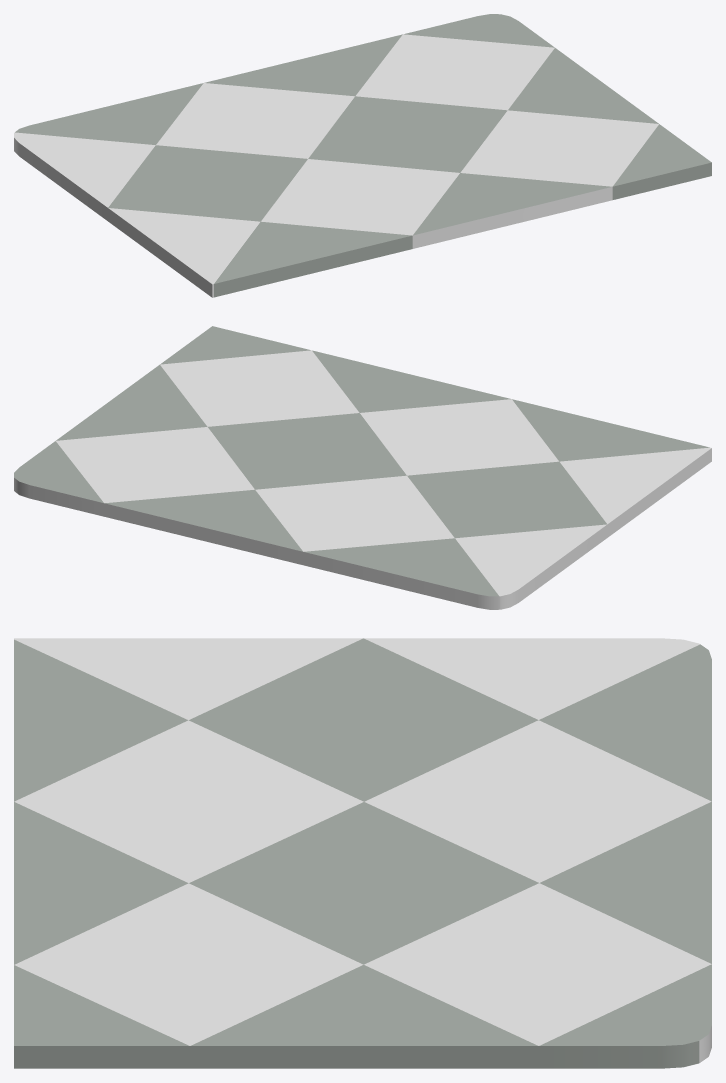
The model's file is tile01_s03.FBX.
3 renders of one model, top to bottom at view 1: azimuth 30°, elevation 25°; view 2: azimuth 150°, elevation 25°; view 3: azimuth 270°, elevation 25°, orthographic. The views are drawn at different scales.
Visible parts, largest first — view 1: tile01_s03; view 2: tile01_s03; view 3: tile01_s03.
Part boxes in pixels (x1,y1,x2,y2): tile01_s03: (14,14,711,297); tile01_s03: (14,326,711,609); tile01_s03: (14,638,711,1068).
Size of the model in its own units: 948 by 686 by 24.49.
1 material, 1 textured.
